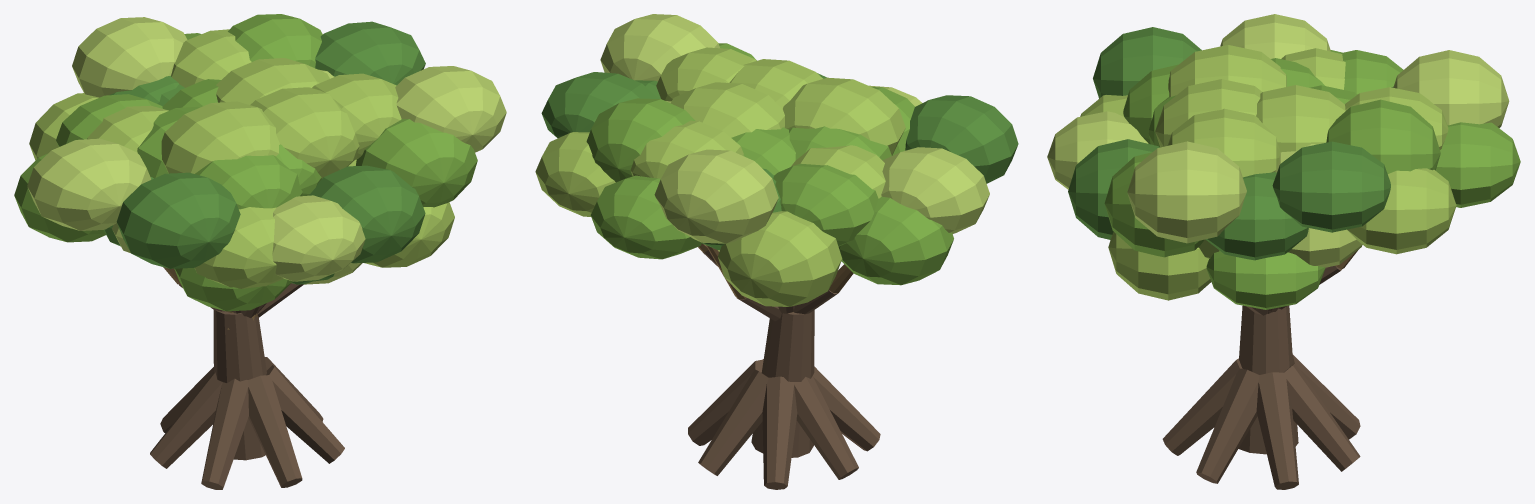
The model's file is port_tree.glb.
3 renders of one model, left to right at view 1: azimuth 30°, elevation 25°; view 2: azimuth 150°, elevation 25°; view 3: azimuth 270°, elevation 25°, orthographic. The views are drawn at different scales.
Visible parts, largest first — view 1: port_tree; view 2: port_tree; view 3: port_tree.
Boxes of the visible parts, left/top/right/bottom form: port_tree: left=14, top=14, right=506, bottom=489; port_tree: left=535, top=14, right=1018, bottom=489; port_tree: left=1047, top=14, right=1520, bottom=489.
Bounding box in the file's own units: 11.72 × 9.98 × 11.03.
